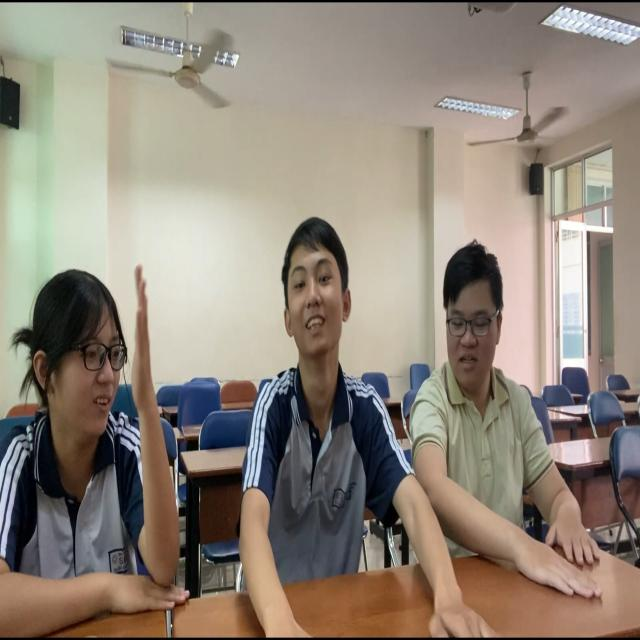raise_hand: (1, 167, 220, 640)
